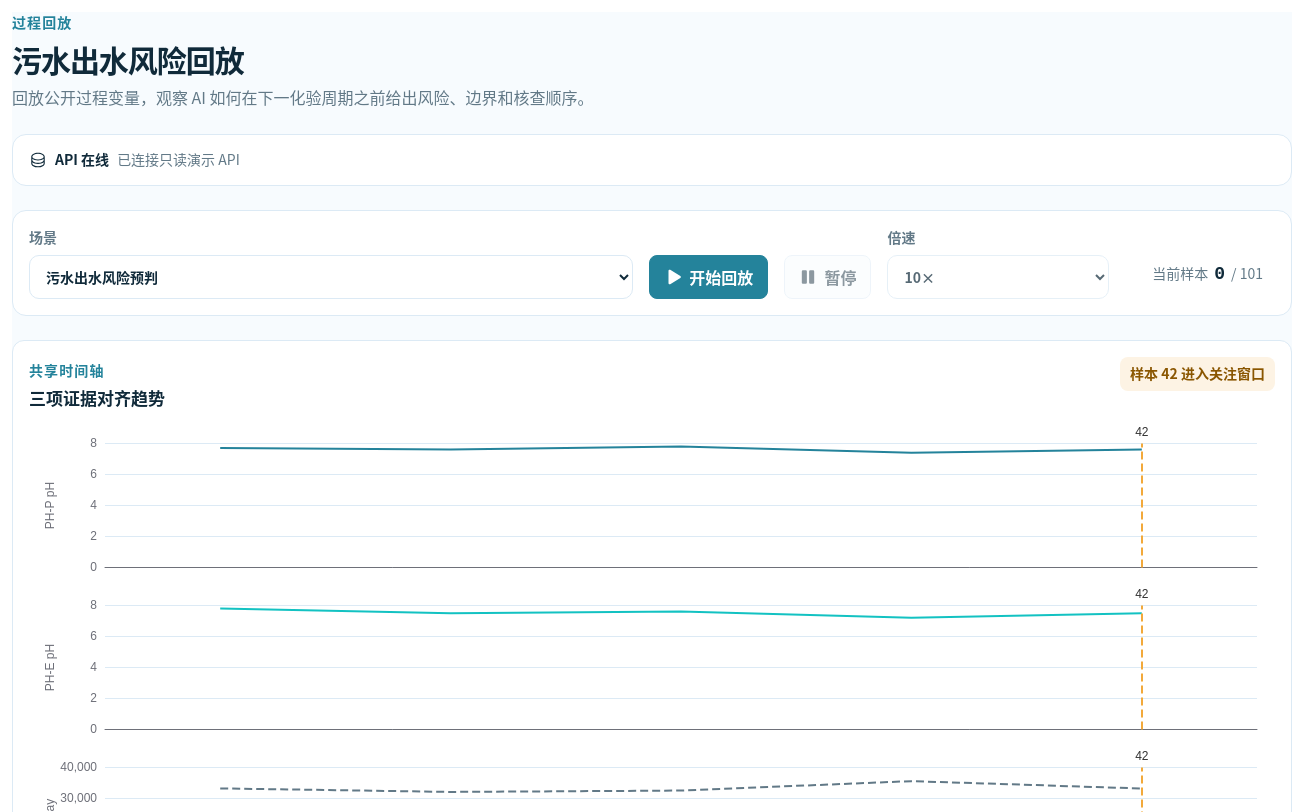
Scenario: 回放控制 › WTP 完成时在长图表前显示当前事件 CTA
What coordinates should you click on to do the following:
click the button "开始回放"
I would click on:
 (709, 277)
Its box is x1=649 y1=255 x2=768 y2=299.
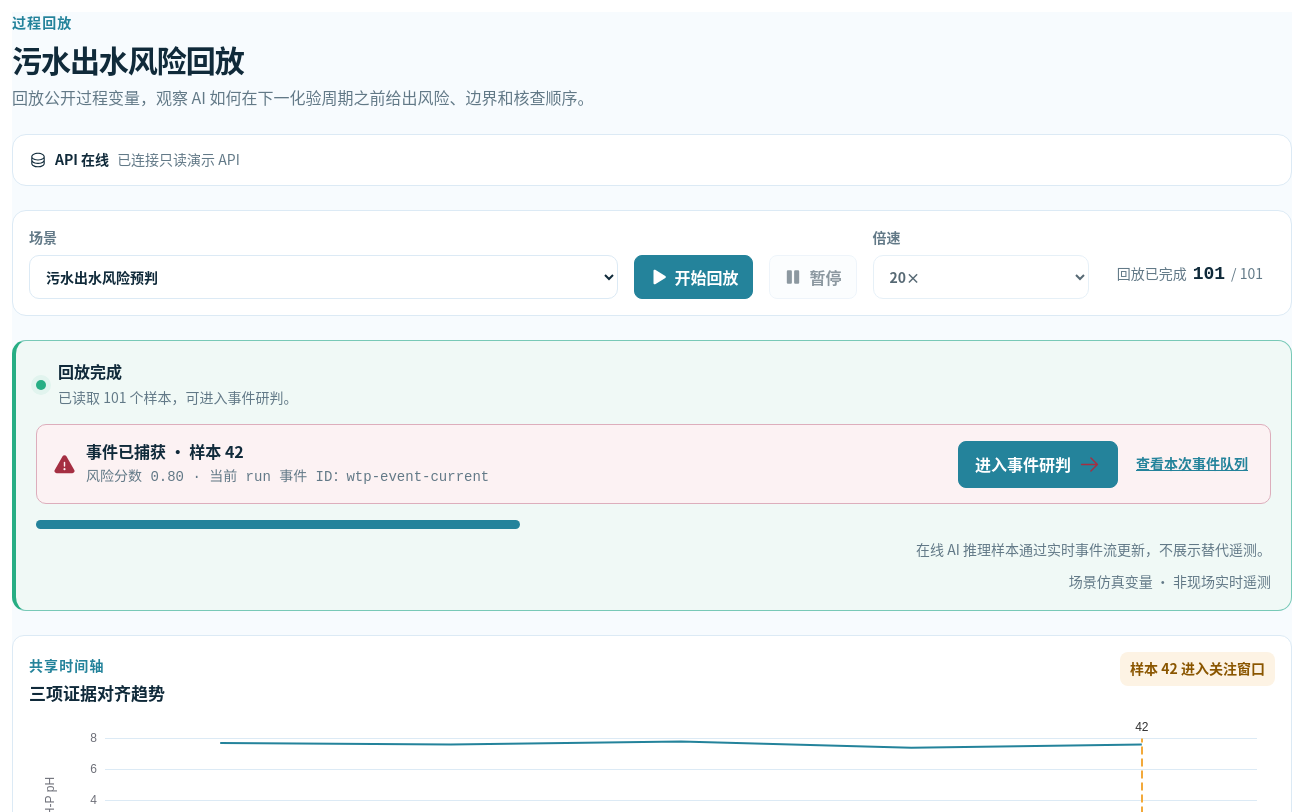
Now the text "回放完成" is shown, box x1=58 y1=359 x2=122 y2=383
Now the text with test id "current-sample" reads "101", box x1=1193 y1=264 x2=1225 y2=284
